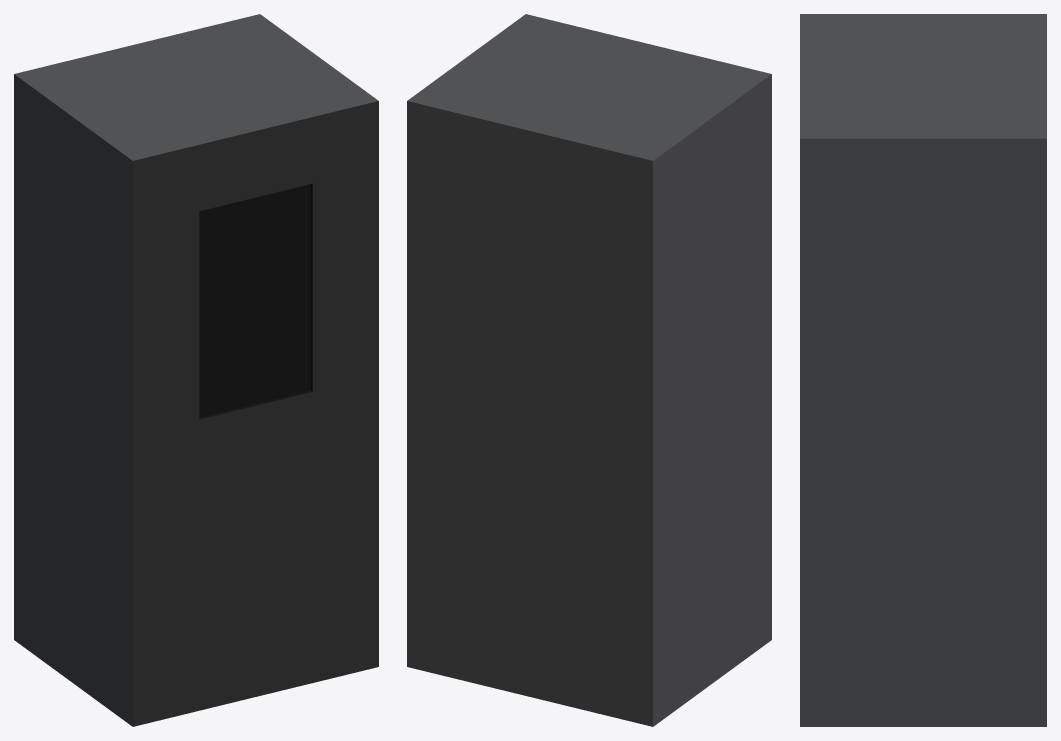
The model's file is sender.obj.
3 renders of one model, left to right at view 1: azimuth 30°, elevation 25°; view 2: azimuth 150°, elevation 25°; view 3: azimuth 270°, elevation 25°, orthographic. The views are drawn at different scales.
Parts seen in each view (by area): view 1: Cube; view 2: Cube; view 3: Cube.
Part boxes in pixels (x1=…): Cube: x1=14, y1=14, x2=378, y2=726; Cube: x1=407, y1=14, x2=771, y2=726; Cube: x1=800, y1=14, x2=1046, y2=726.
Bounding box in the file's own units: 0.058 × 0.1275 × 0.0485.
